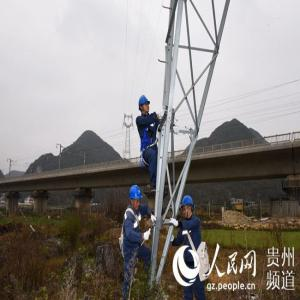blue: (129, 183, 143, 212), (181, 194, 194, 221), (139, 94, 151, 116)
